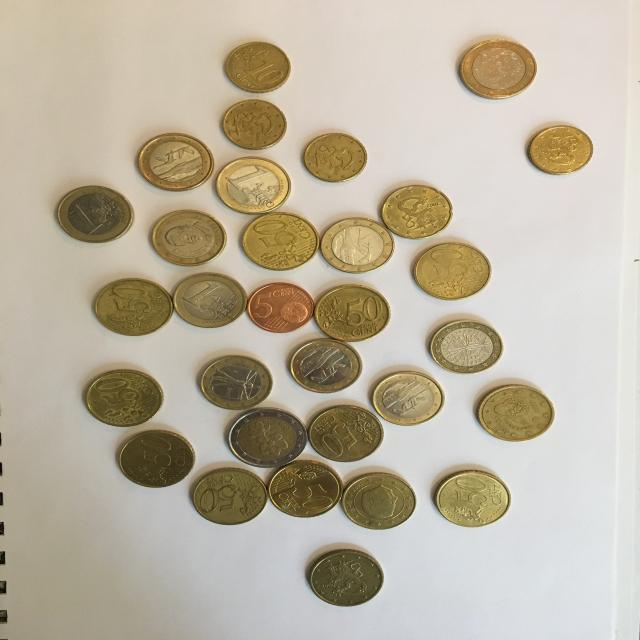10c: (216, 98, 290, 152), (222, 42, 297, 94), (525, 122, 596, 176), (301, 130, 370, 184)
1e: (456, 37, 538, 104), (134, 132, 218, 194), (52, 184, 138, 244), (316, 215, 396, 275), (168, 271, 250, 329), (148, 209, 230, 267), (196, 356, 278, 412), (427, 320, 507, 376), (215, 156, 292, 214), (370, 371, 450, 426), (287, 337, 363, 394)
20c: (378, 182, 454, 240)
2e: (224, 404, 310, 470)
50c: (301, 543, 389, 608), (188, 460, 268, 528), (80, 367, 166, 428), (472, 382, 556, 444), (412, 240, 494, 303), (236, 210, 322, 270), (432, 467, 514, 529), (304, 404, 386, 464), (117, 428, 199, 488), (314, 282, 393, 344), (337, 471, 418, 531), (91, 278, 174, 336), (264, 460, 342, 520)
5c: (244, 280, 318, 334)
